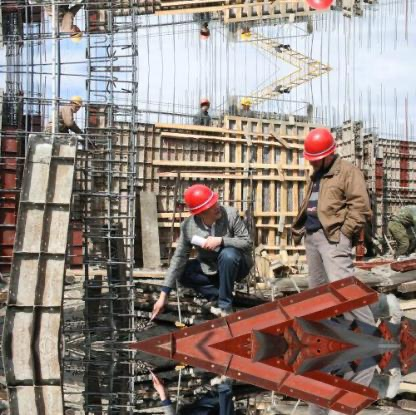Safety Helmet: (174, 178, 230, 233), (296, 123, 347, 174), (66, 92, 86, 118)
